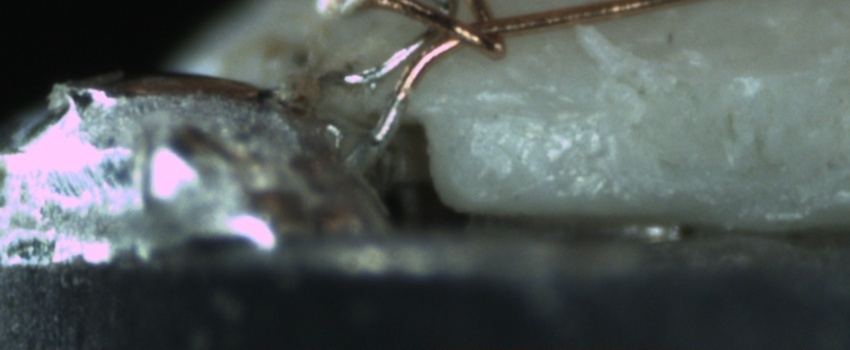CL: (412, 7, 491, 56)
DL: (460, 78, 617, 143)
